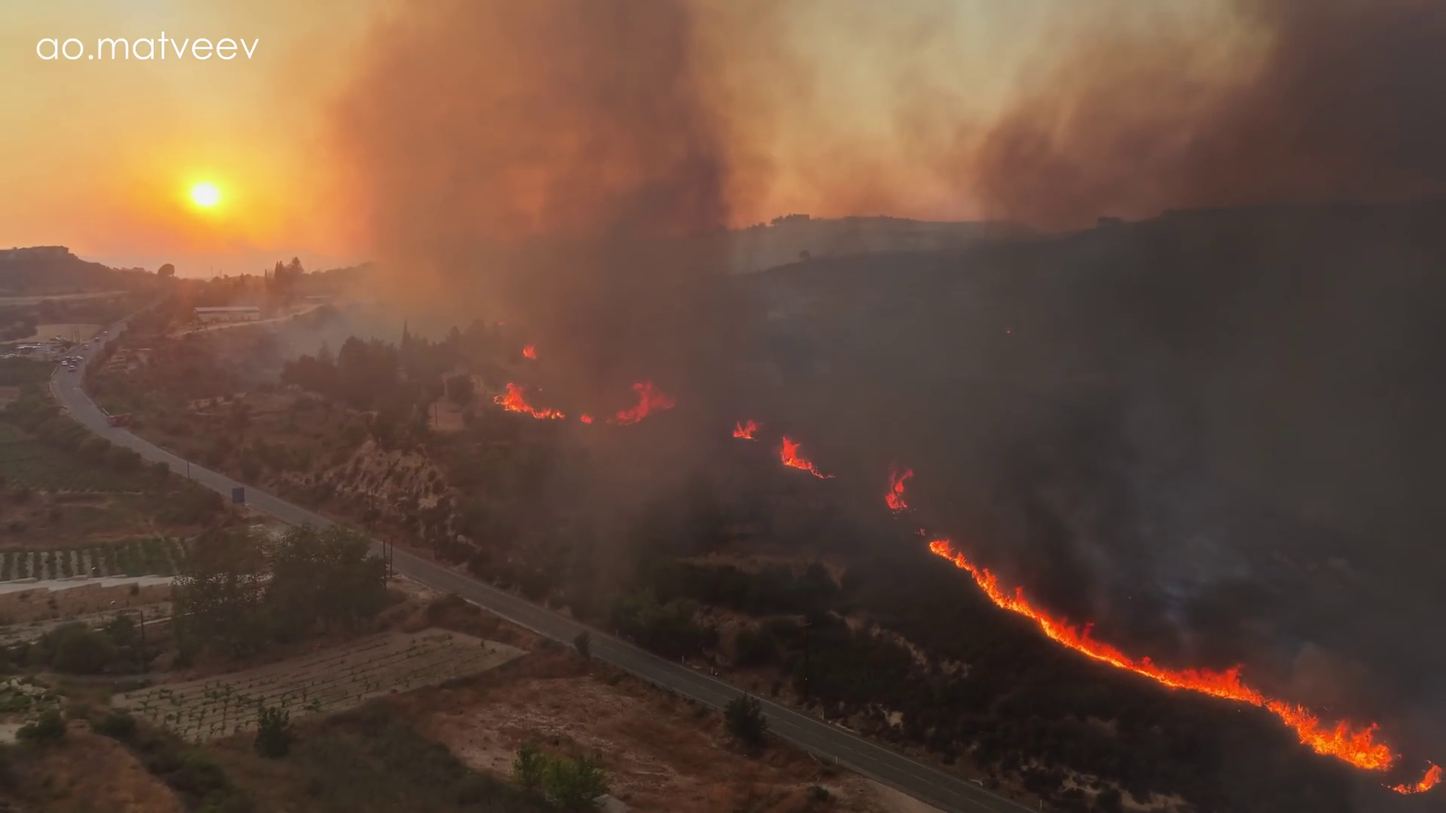forest_fire: (929, 538, 1393, 769), (612, 381, 675, 424), (493, 382, 564, 418), (779, 435, 831, 477), (1392, 763, 1442, 793), (885, 466, 913, 512), (1392, 766, 1438, 791), (732, 419, 758, 438), (522, 344, 536, 359)
